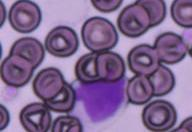M: (72, 79, 130, 127)
